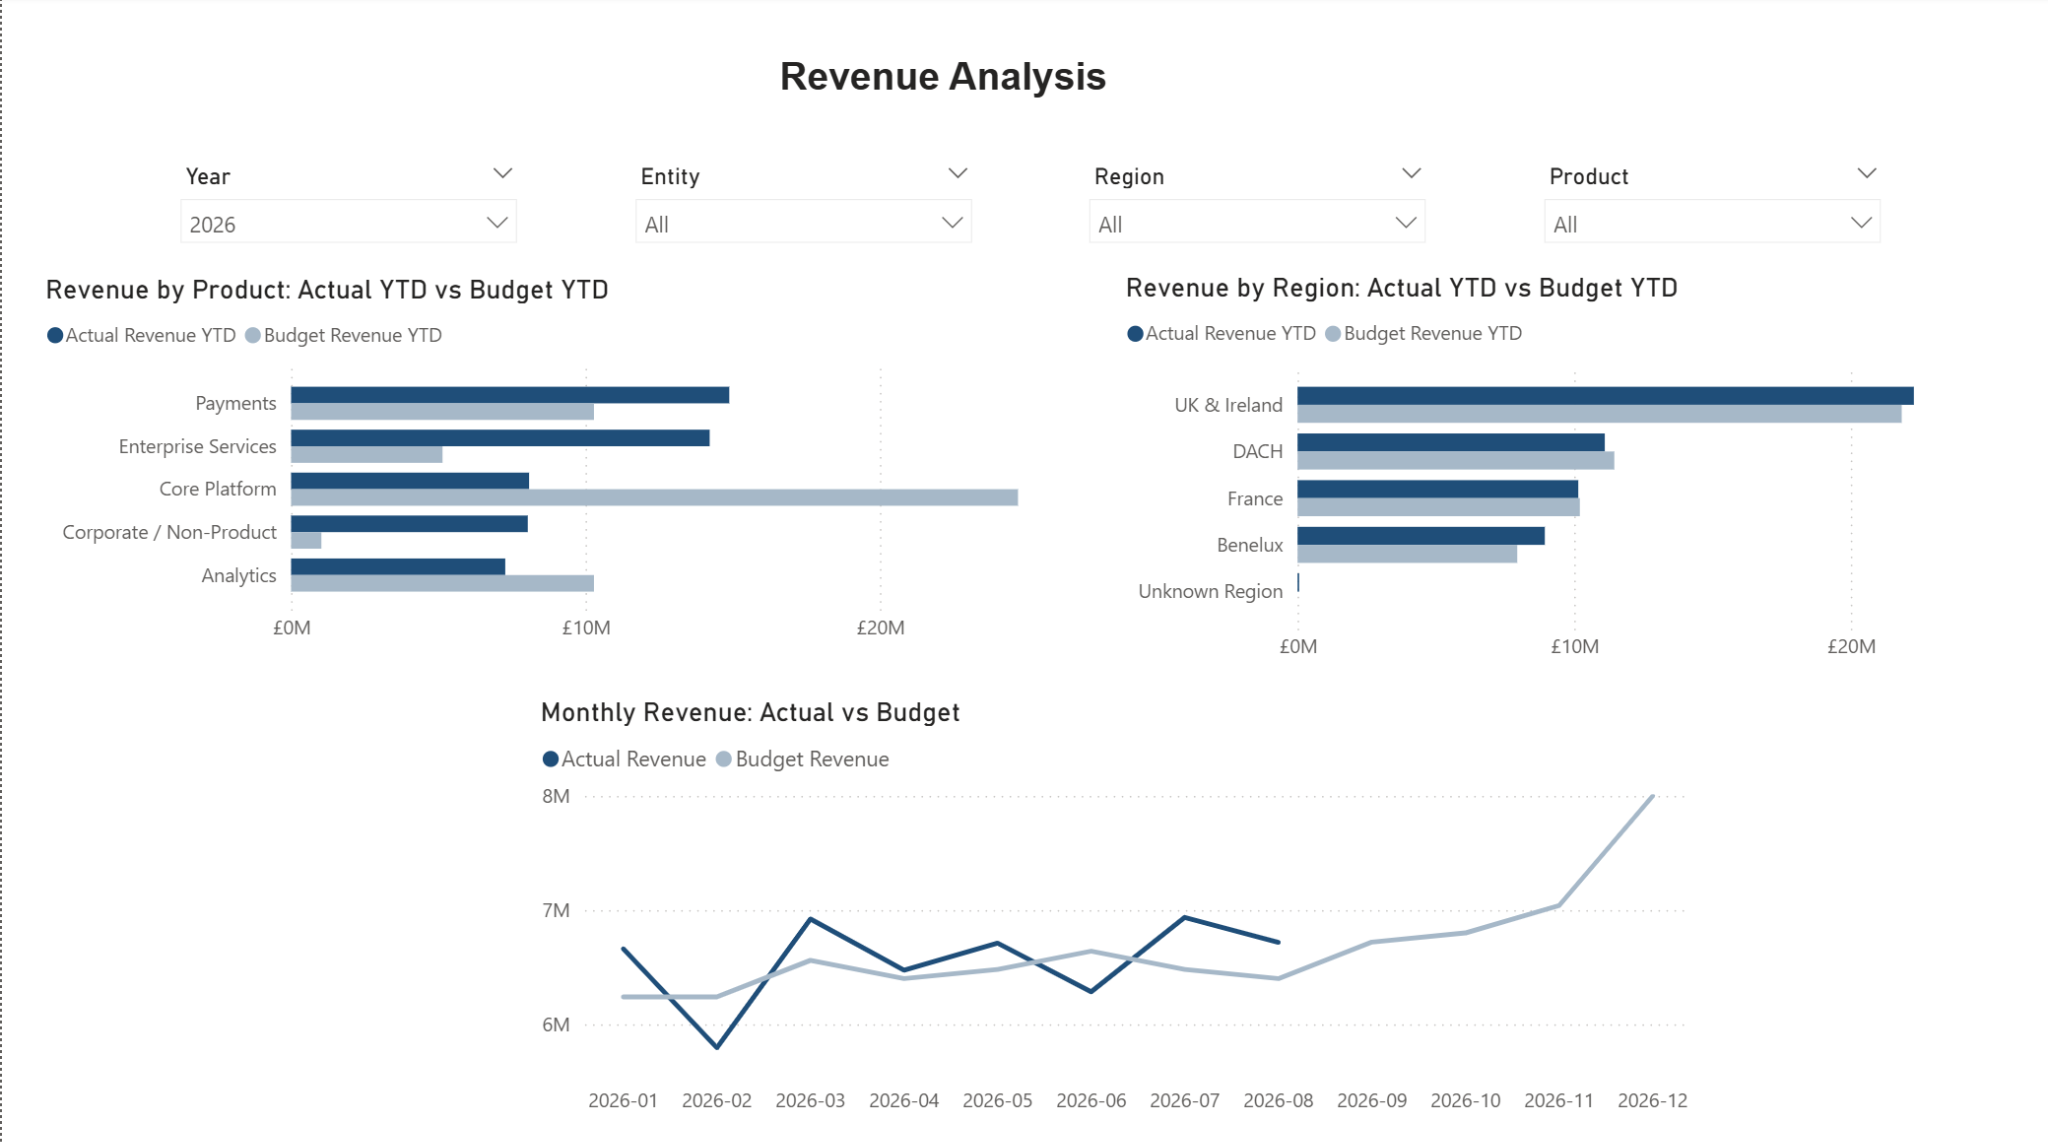

The page's visual inventory and layout, read from the dashboard file:
{"tool":"powerbi","page":{"name":"Revenue  Analysis","canvas":[1280,720],"ordinal":3},"visuals":[{"type":"slicer","fields":{"Values":["dw DimDate.calendar_year"]},"box":[101.2,98.4,230,74],"z":0},{"type":"slicer","fields":{"Values":["dw DimEntity.entity_name"]},"box":[385.1,98.4,230,74],"z":1000},{"type":"slicer","fields":{"Values":["dw DimRegion.region_name"]},"box":[669,98.4,230,74],"z":2000},{"type":"slicer","fields":{"Values":["dw DimProduct.product_name"]},"box":[952.9,98.4,230.3,74],"z":3000},{"type":"textbox","box":[192.1,13.3,791.4,78.5],"z":4000},{"type":"lineChart","title":"Monthly Revenue: Actual vs Budget","fields":{"Category":["dw DimDate.year_month"],"Y":["_Measures.Actual Revenue","_Measures.Budget Revenue"]},"box":[331.3,436.4,729.3,283.8],"z":5000},{"type":"clusteredBarChart","title":"Revenue by Product: Actual YTD vs Budget YTD","fields":{"Category":["dw DimProduct.product_name"],"Y":["_Measures.Actual Revenue YTD","_Measures.Budget Revenue YTD"]},"box":[22.2,172.7,638.4,239.4],"z":6000},{"type":"clusteredBarChart","title":"Revenue by Region: Actual YTD vs Budget YTD","fields":{"Category":["dw DimRegion.region_name"],"Y":["_Measures.Actual Revenue YTD","_Measures.Budget Revenue YTD"]},"box":[696,171.7,564.6,252.5],"z":7000}]}

Visuals, with their boxes in screenshot pixels (x1, y1, x2, y2), scaled from the page's 1280x720 canvas onto the 2048x1143 screenshot:
slicer - dw DimDate.calendar_year: (162, 156, 530, 274)
slicer - dw DimEntity.entity_name: (616, 156, 984, 274)
slicer - dw DimRegion.region_name: (1070, 156, 1438, 274)
slicer - dw DimProduct.product_name: (1525, 156, 1893, 274)
textbox: (307, 21, 1574, 146)
"Monthly Revenue: Actual vs Budget" lineChart: (530, 693, 1697, 1142)
"Revenue by Product: Actual YTD vs Budget YTD" clusteredBarChart: (36, 274, 1057, 654)
"Revenue by Region: Actual YTD vs Budget YTD" clusteredBarChart: (1114, 273, 2017, 673)
